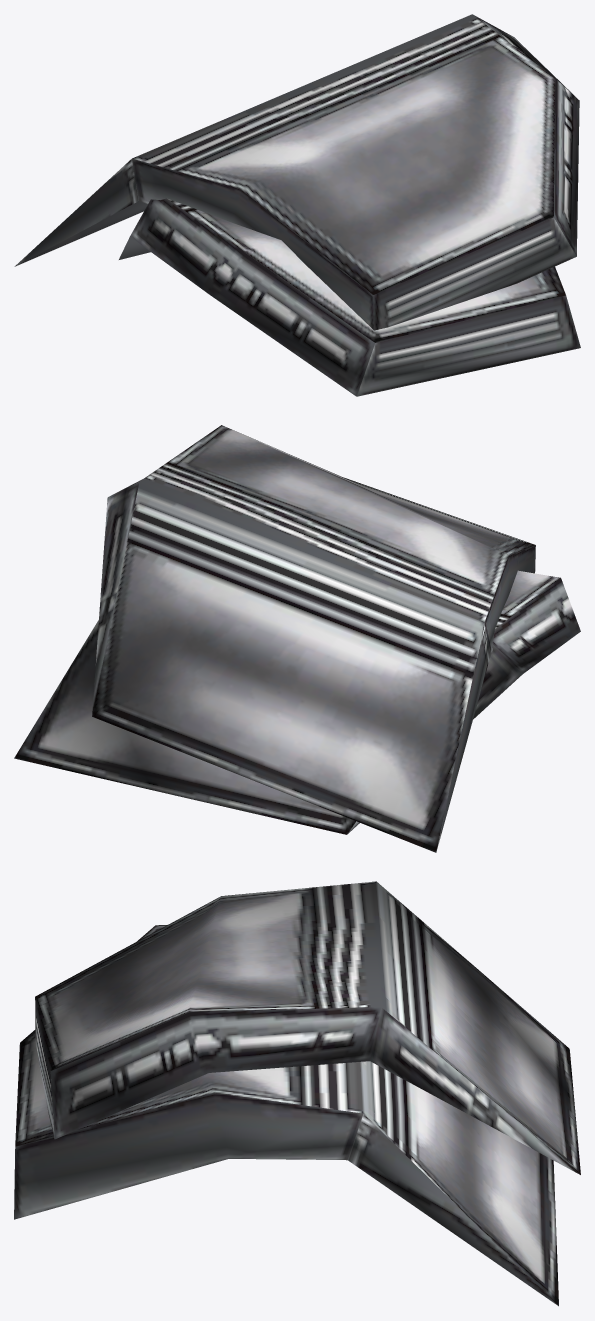
File: ShoulderPads4__EC.glb
3 renders of one model, top to bottom at view 1: azimuth 30°, elevation 25°; view 2: azimuth 150°, elevation 25°; view 3: azimuth 270°, elevation 25°, orthographic. The views are drawn at different scales.
Visible parts, largest first — view 1: ShoulderPads4; view 2: ShoulderPads4; view 3: ShoulderPads4.
Boxes of the visible parts, box(x1,y1,x2,y2) form: ShoulderPads4: box(14, 14, 580, 396); ShoulderPads4: box(14, 425, 580, 852); ShoulderPads4: box(14, 881, 580, 1306).
Size of the model in its own units: 10.24 by 5.34 by 10.11.
Materials: 1 (1 with a texture image).
